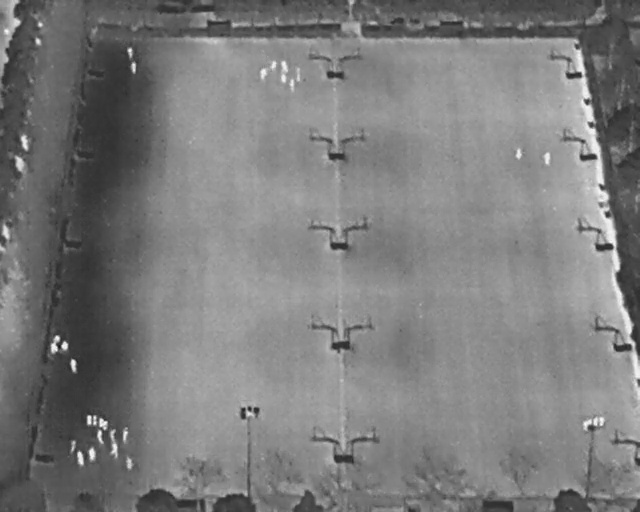Person: (88, 446, 96, 462), (70, 358, 78, 373), (110, 443, 118, 458), (259, 68, 268, 81), (125, 456, 133, 470), (295, 67, 302, 82), (77, 451, 84, 466), (123, 426, 129, 443), (109, 429, 116, 443), (50, 342, 58, 354), (127, 47, 134, 60), (543, 152, 550, 165), (97, 429, 103, 443), (70, 440, 76, 454), (515, 148, 522, 160), (270, 60, 277, 71), (61, 340, 68, 351), (289, 79, 295, 91), (86, 414, 92, 426), (131, 62, 136, 74), (92, 414, 97, 425), (281, 60, 287, 69), (283, 65, 289, 74), (54, 334, 60, 343), (281, 73, 286, 83), (103, 421, 108, 431), (99, 418, 104, 427)
